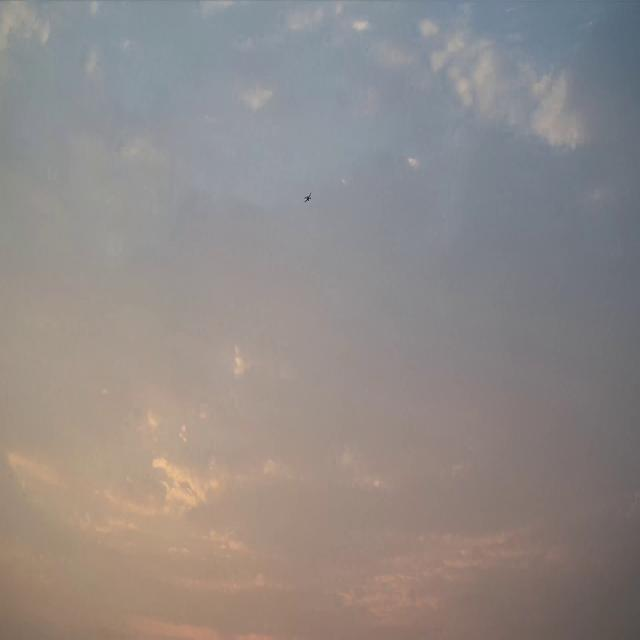drone: (304, 190, 312, 203)
